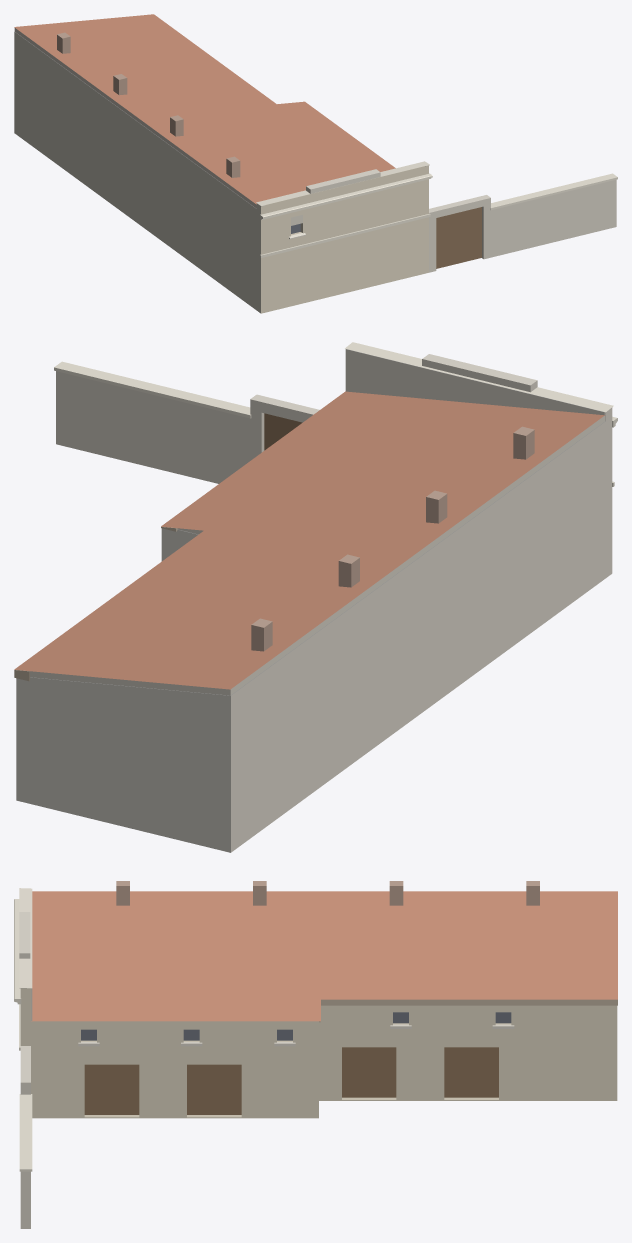
The picture shows the model from 3 angles, top to bottom: view 1: azimuth 30°, elevation 25°; view 2: azimuth 150°, elevation 25°; view 3: azimuth 270°, elevation 25°; orthographic projection. The views are drawn at different scales.
Visible parts, largest first — view 1: CP_286_Roof, CP_286_Masonry, CP_286_Masonry_Front, CP_286_Yard_Wall, CP_286_UpperWall, CP_286_Gate_Leaves, CP_286_AtticClosure, CP_286_Cornice_main_0, CP_286_Yard_Wall_Cap, CP_286_Parapet_Step, CP_286_Cornice_string_0, CP_286_Gate_Pillar_N (+3 smaller); view 2: CP_286_Masonry, CP_286_Roof, CP_286_UpperWall, CP_286_Yard_Wall, CP_286_AtticClosure, CP_286_Yard_Wall_Cap, CP_286_WingRoof_Parapet_Coping, CP_286_Parapet_Step, CP_286_Masonry_Front, CP_286_Gate_Pillar_N, CP_286_Gate_Lintel, CP_286_Gate_Leaves; view 3: CP_286_Roof, CP_286_Masonry, CP_286_Roof_EaveClosure_0, CP_286_Yard_Wall_Cap, CP_286_WingRoof_Parapet_Coping, CP_286_Cornice_main_0, CP_286_Yard_Wall, CP_286_Masonry_Front, CP_286_Parapet_Step.
Part boxes in pixels (x1,y1,x2,y2): CP_286_Roof: (14,14,395,204); CP_286_Masonry: (14,53,256,310); CP_286_Masonry_Front: (256,166,428,313); CP_286_Yard_Wall: (491,179,616,257); CP_286_UpperWall: (14,31,256,229); CP_286_Gate_Leaves: (436,207,481,268); CP_286_AtticClosure: (14,28,302,225); CP_286_Cornice_main_0: (260,173,432,219); CP_286_Yard_Wall_Cap: (490,173,617,210); CP_286_Parapet_Step: (306,169,380,193); CP_286_Cornice_string_0: (260,213,430,257); CP_286_Gate_Pillar_N: (480,195,490,259); CP_286_Masonry: (16,455,605,852); CP_286_Roof: (14,391,604,689); CP_286_UpperWall: (30,412,605,728); CP_286_Yard_Wall: (56,371,250,483); CP_286_AtticClosure: (30,349,605,695); CP_286_Yard_Wall_Cap: (54,361,251,418); CP_286_WingRoof_Parapet_Coping: (345,342,613,412); CP_286_Parapet_Step: (422,354,537,392); CP_286_Masonry_Front: (605,407,612,577); CP_286_Gate_Pillar_N: (250,394,267,460); CP_286_Gate_Lintel: (261,397,319,422); CP_286_Gate_Leaves: (264,413,302,450); CP_286_Roof: (31,891,617,1021); CP_286_Masonry: (31,1005,617,1118); CP_286_Roof_EaveClosure_0: (321,999,617,1005); CP_286_Yard_Wall_Cap: (19,1094,32,1171); CP_286_WingRoof_Parapet_Coping: (19,888,32,988); CP_286_Cornice_main_0: (14,899,21,1004); CP_286_Yard_Wall: (20,1171,30,1228); CP_286_Masonry_Front: (20,988,30,1045); CP_286_Parapet_Step: (19,912,30,958).
Size of the model in its own units: 21.9 by 7 by 26.53.
